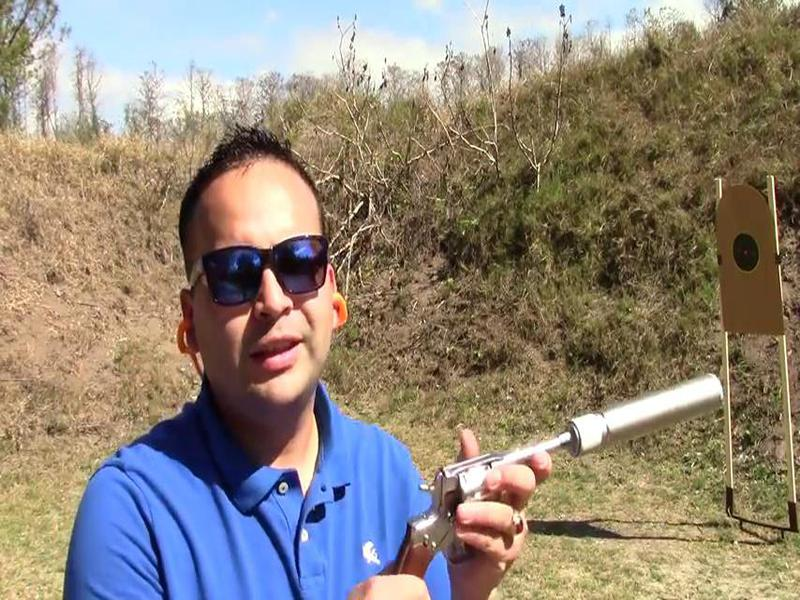Revolver: (347, 406, 580, 600)
